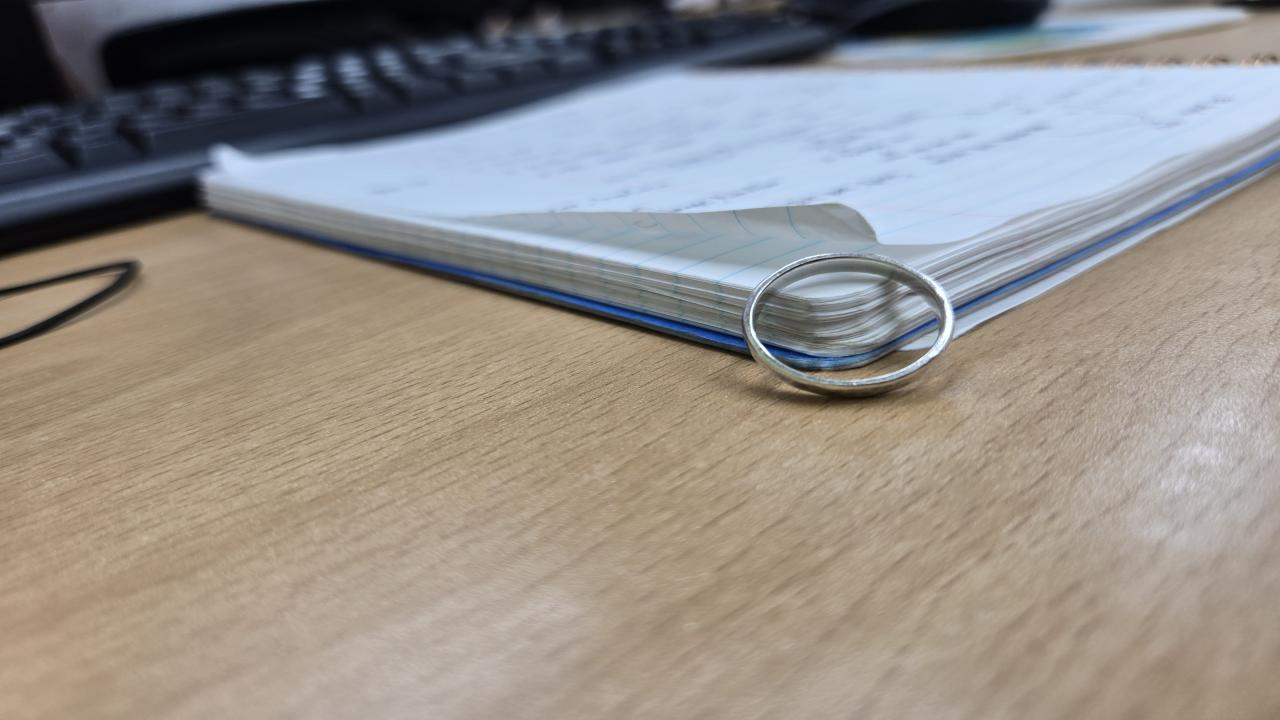ring: (740, 250, 956, 398)
